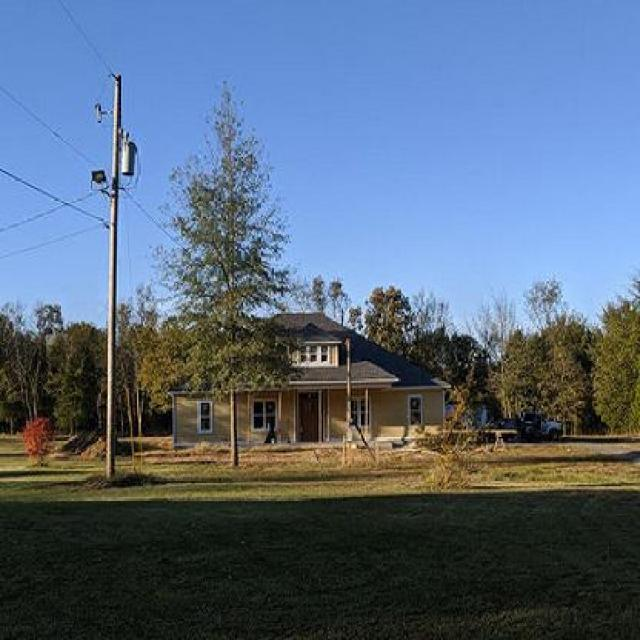pole: (82, 57, 143, 478)
